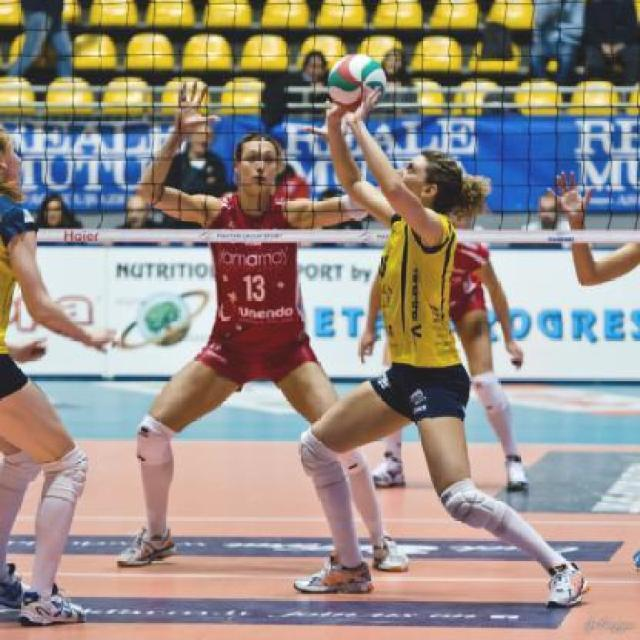volleyball: (328, 55, 387, 112)
